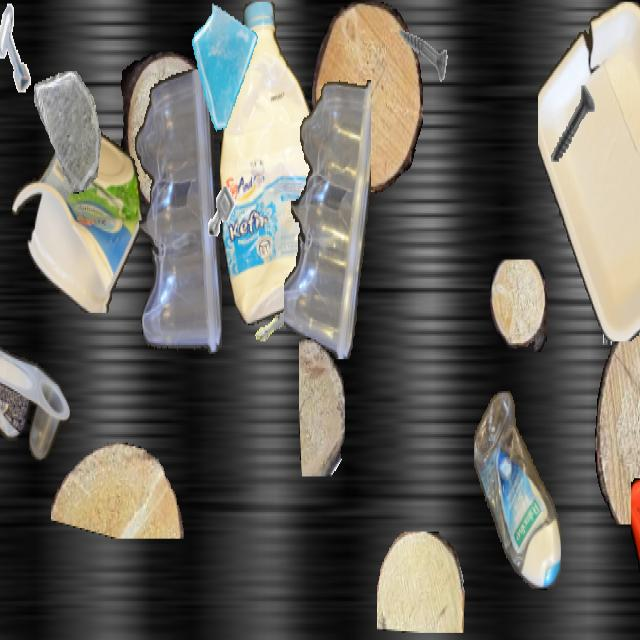glass: (188, 2, 262, 133), (34, 71, 102, 192)
metal: (541, 70, 603, 180), (238, 271, 296, 374), (390, 2, 448, 105), (0, 2, 42, 94), (595, 261, 640, 343), (200, 174, 242, 249)
plastic: (538, 2, 640, 340), (220, 2, 322, 325), (132, 69, 222, 361), (12, 124, 142, 313), (284, 73, 370, 357), (474, 391, 560, 590), (0, 340, 69, 460), (631, 471, 640, 638)
wood: (312, 2, 422, 194), (118, 52, 214, 212), (51, 442, 187, 538), (595, 290, 640, 524), (377, 532, 465, 631), (578, 166, 640, 300), (299, 338, 345, 476), (490, 260, 546, 352)
